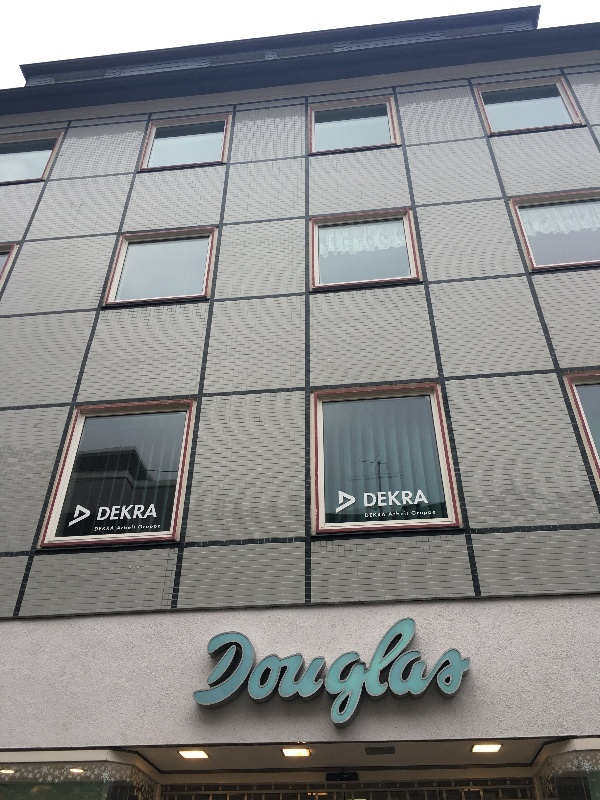text: (225, 617, 240, 727), (241, 617, 256, 727), (257, 617, 272, 727), (273, 617, 288, 727), (289, 617, 304, 727), (305, 617, 320, 727), (321, 617, 336, 727), (337, 617, 352, 727), (353, 617, 368, 727), (369, 617, 384, 727), (385, 617, 400, 727), (401, 617, 416, 727), (417, 617, 432, 727), (433, 617, 448, 727), (449, 617, 464, 727), (214, 617, 224, 727), (465, 617, 471, 727), (113, 504, 128, 522), (129, 504, 144, 522), (369, 490, 384, 507), (385, 490, 400, 507), (401, 490, 416, 507), (100, 504, 112, 522), (145, 504, 157, 522), (417, 490, 429, 507), (145, 525, 161, 530), (97, 526, 112, 531), (369, 513, 384, 518), (417, 511, 432, 516), (364, 490, 368, 507), (390, 511, 400, 516), (401, 511, 409, 516), (119, 526, 128, 530), (129, 526, 136, 530), (139, 525, 144, 530), (412, 511, 416, 516), (365, 513, 368, 518), (433, 511, 436, 516), (95, 526, 96, 531), (113, 526, 114, 531), (385, 513, 386, 518)
